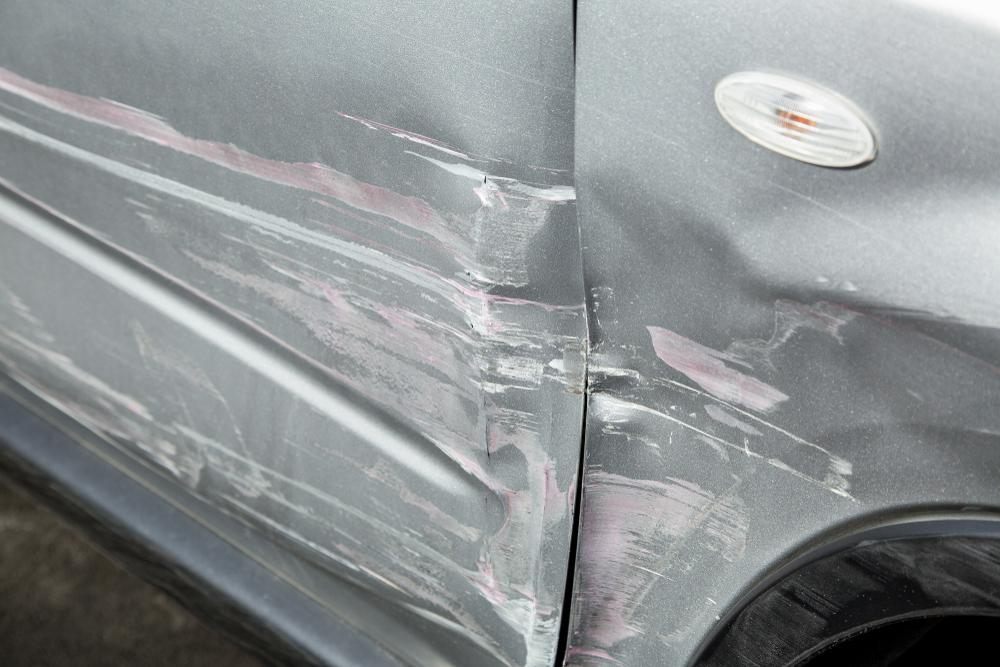dent: (563, 173, 1000, 667), (309, 110, 587, 644)
